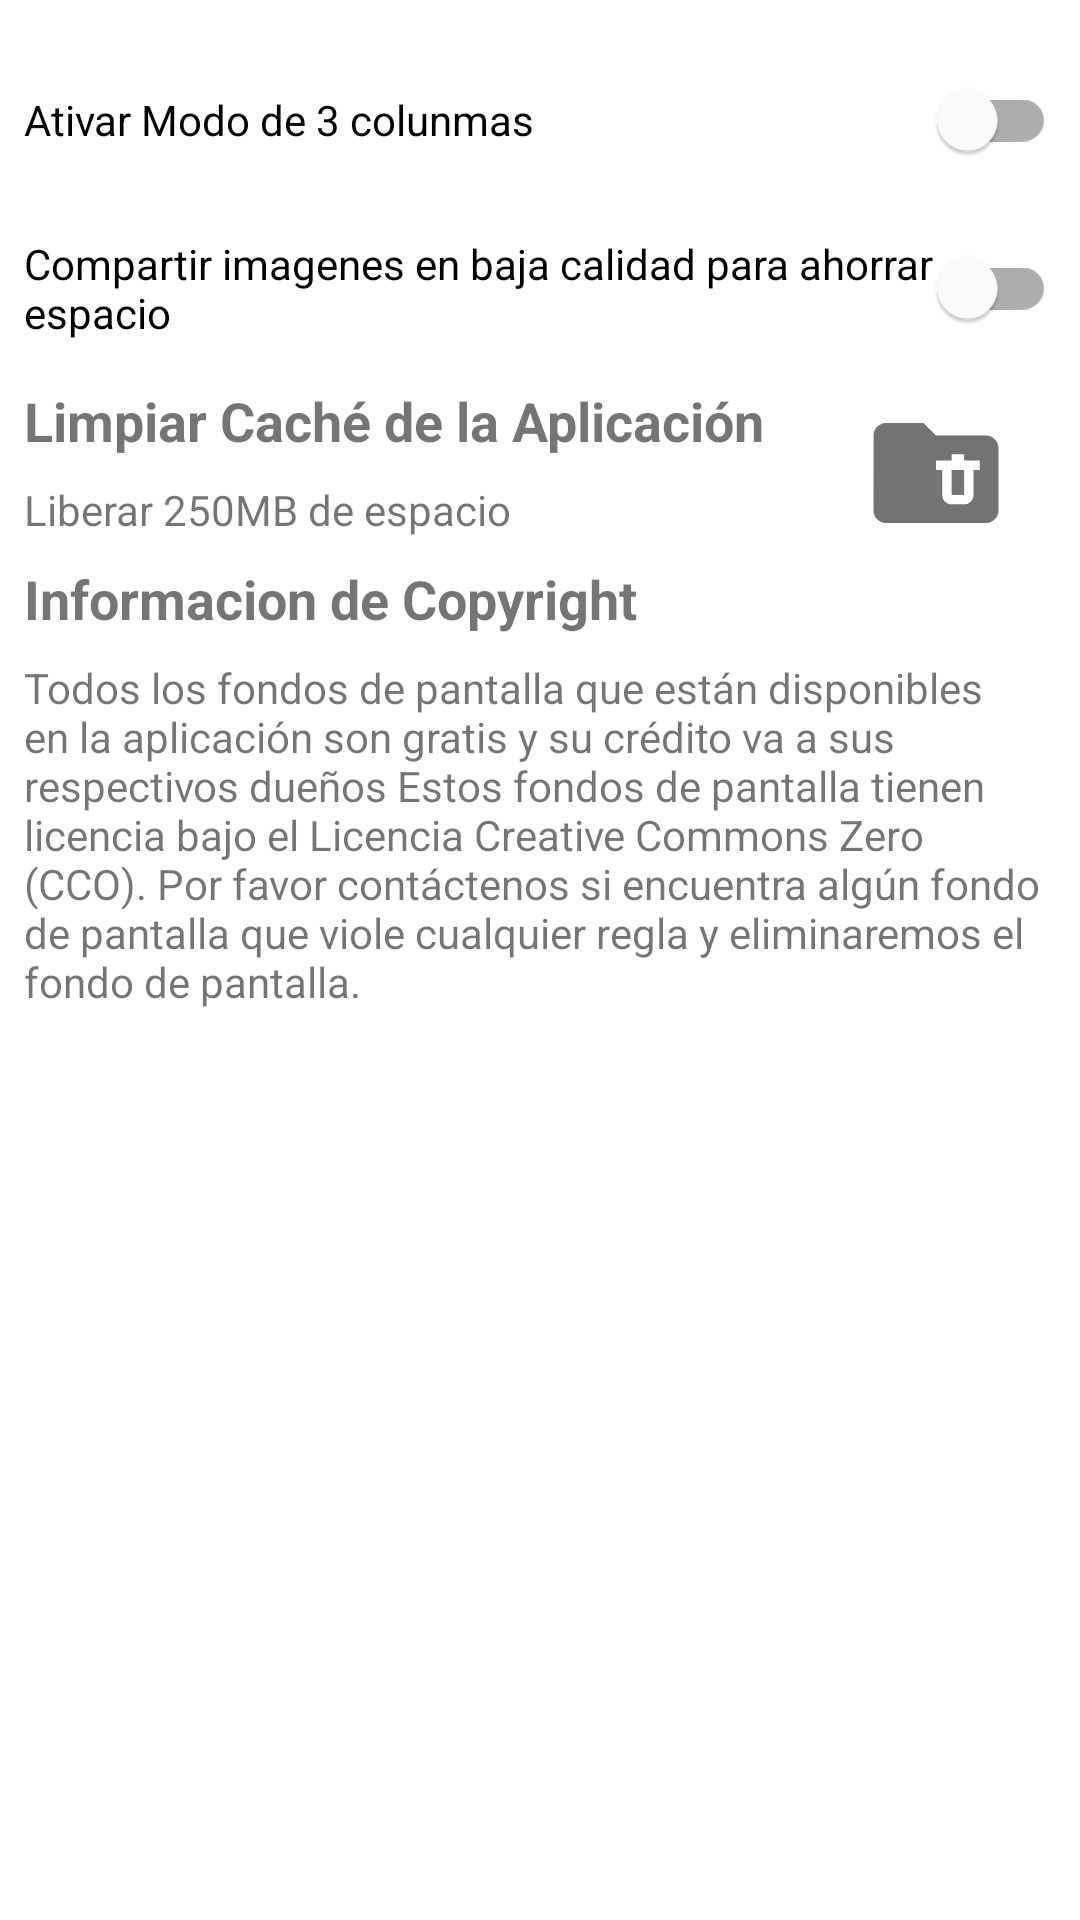

Icon bounding boxes for this 1080px x 1920px phone screenshot, format (x1, y1, x2, y2):
folder delete: (873, 423, 999, 523)
